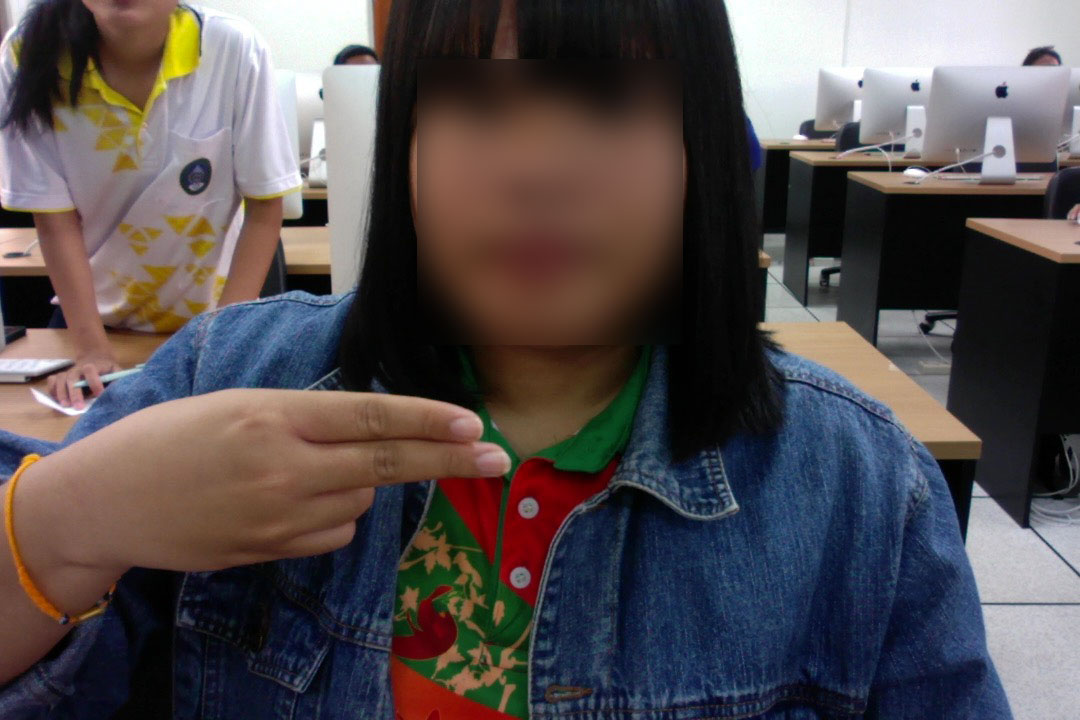hor: (104, 377, 515, 585)
